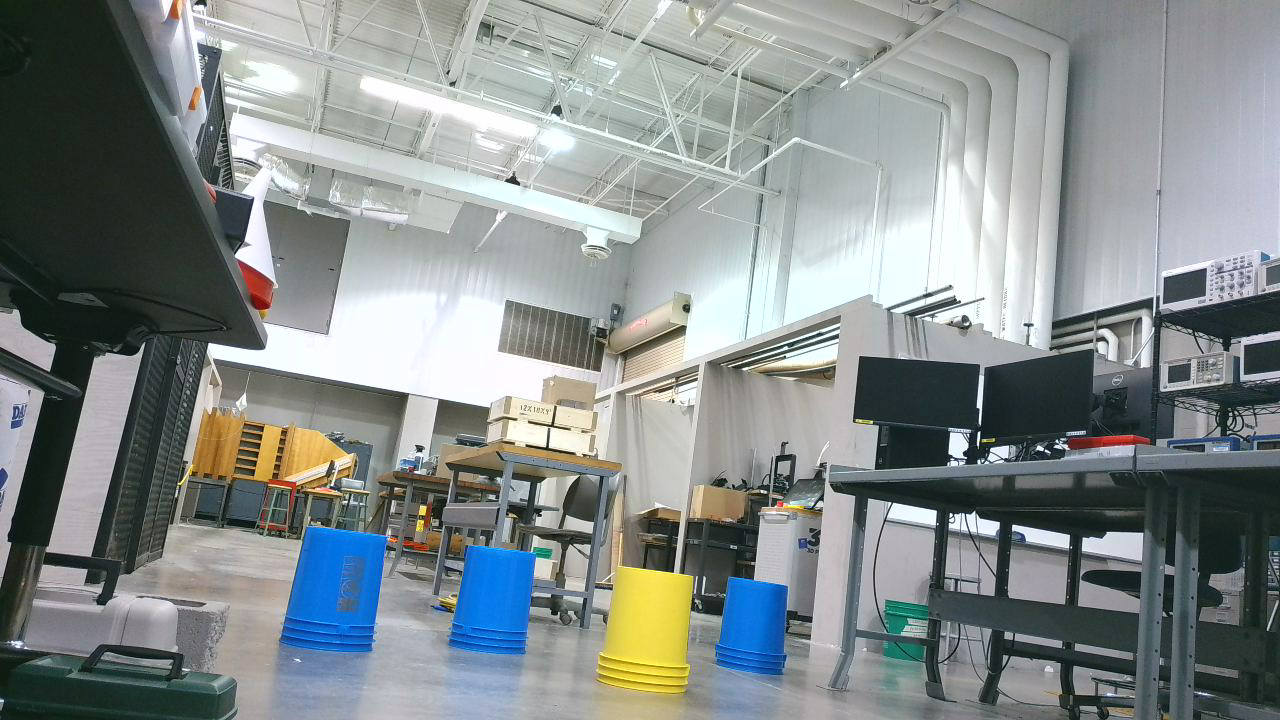blue_bucket: (285, 527, 397, 660), (597, 567, 706, 703), (447, 546, 544, 661), (719, 576, 799, 683)
